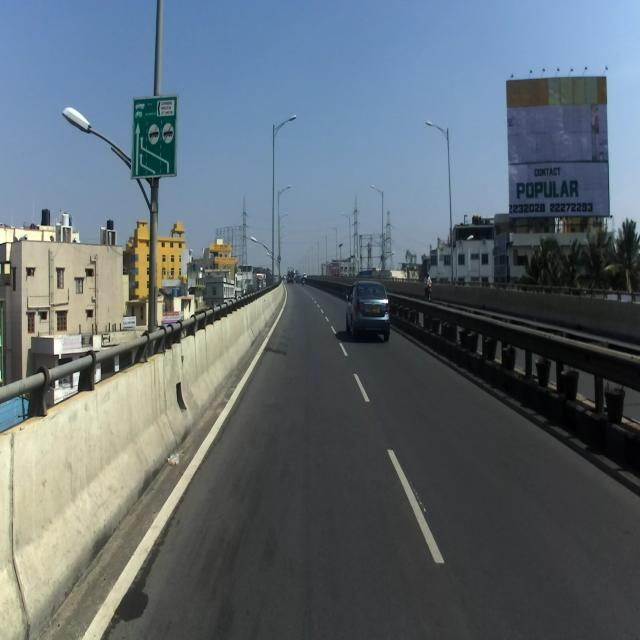car ahead at: (342, 268, 396, 346)
